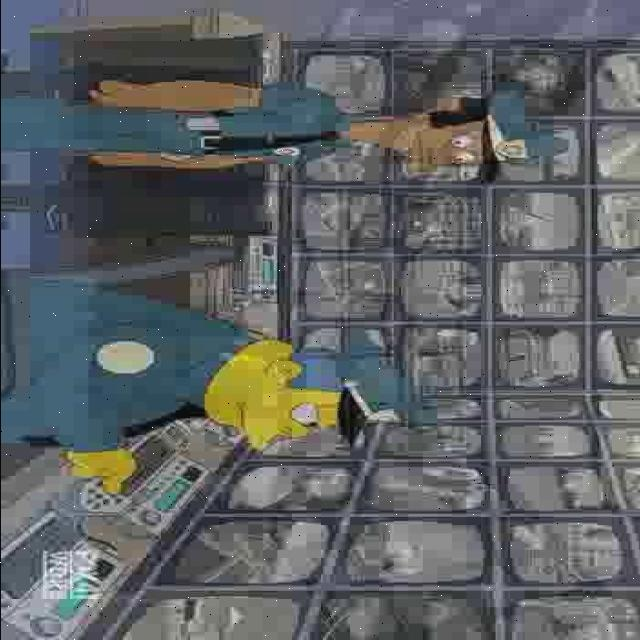Chief Wiggam: (196, 326, 412, 456)
